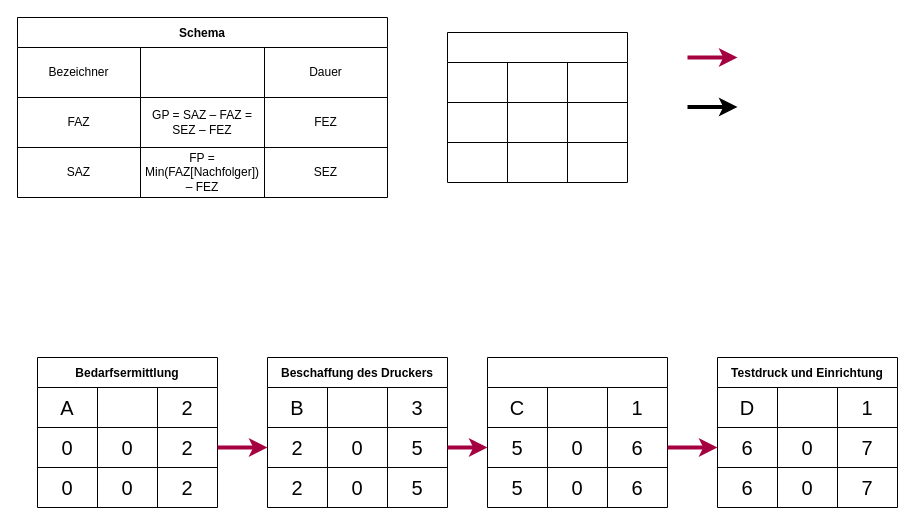
The diagram is 915 pixels wide and 525 high, and some of its shapes have lost their labels. Each missing label, with the box of its shape:
Installation des Druckertreibers: (486, 356, 668, 508)
Vorlage: (446, 32, 628, 182)
